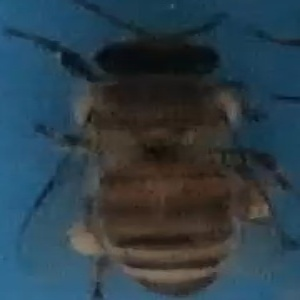bee: (5, 5, 287, 300)
